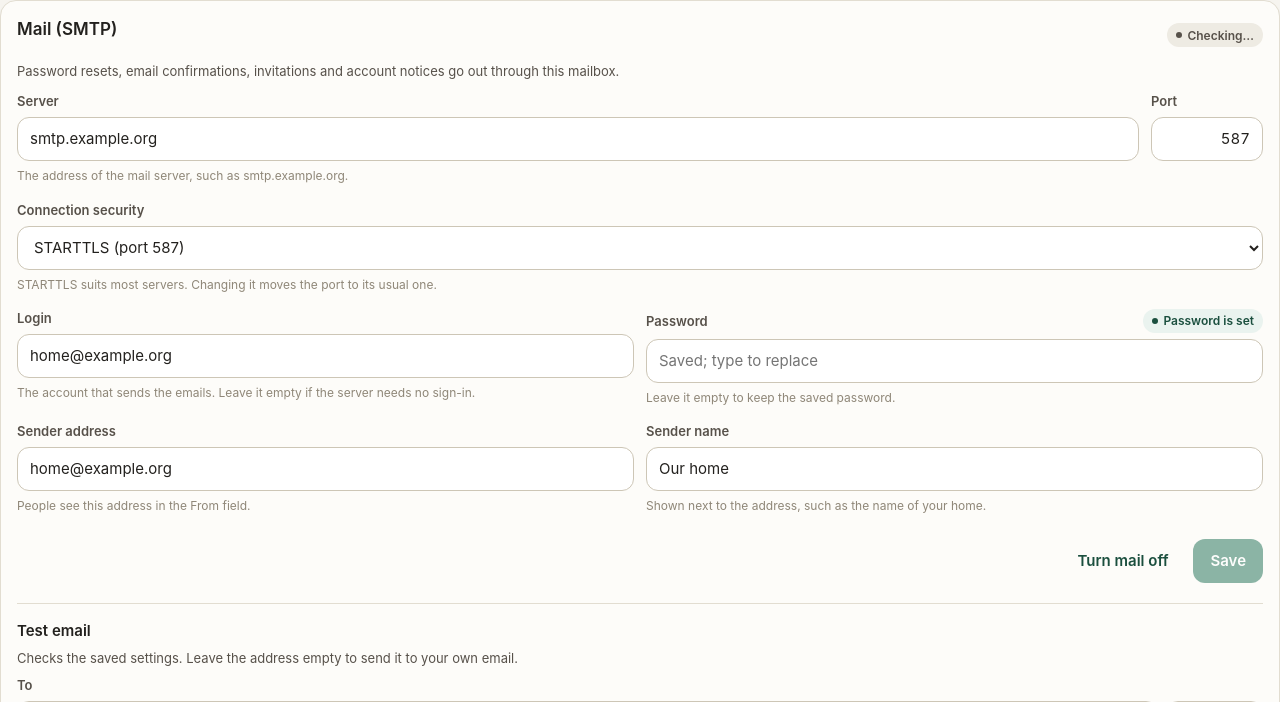
MailboxCard › says it saved and empties the password field
Type "a new app password" into the password field labelled "Password".
click(954, 361); type("a new app password")  # box [646,339,1263,383]
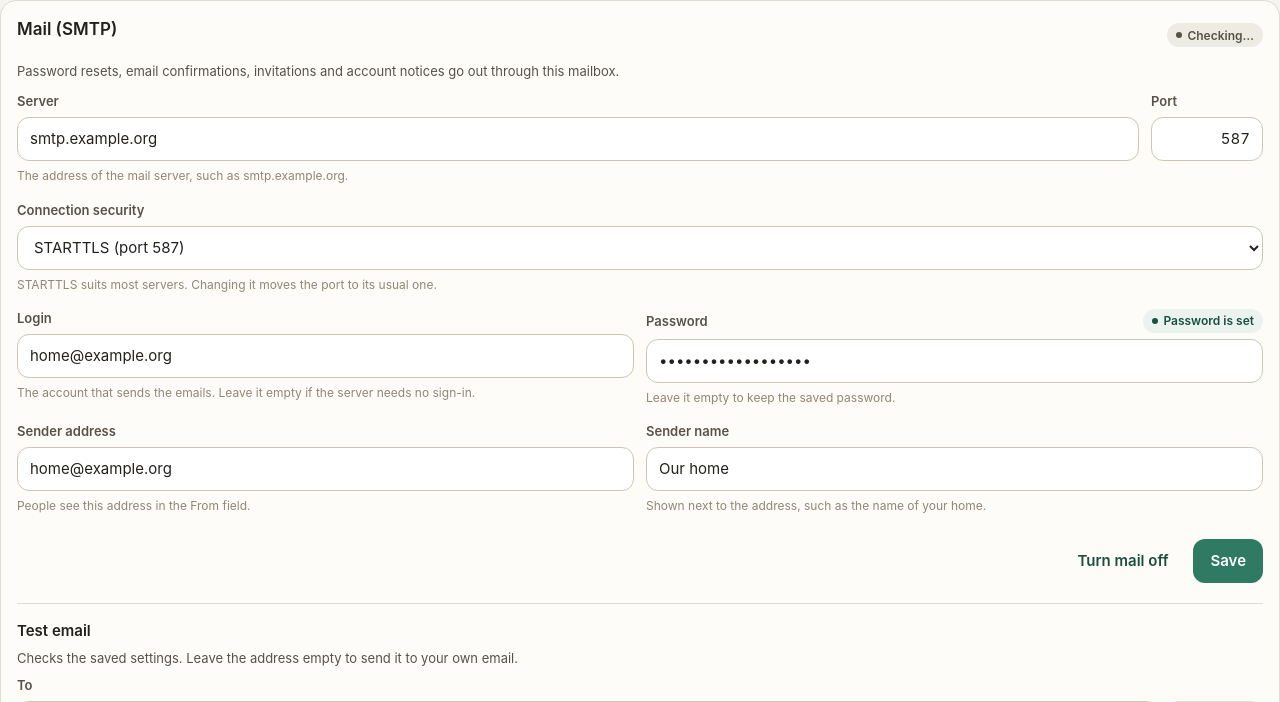
Click the button "Save".
click(1228, 561)  # box [1194,539,1263,583]
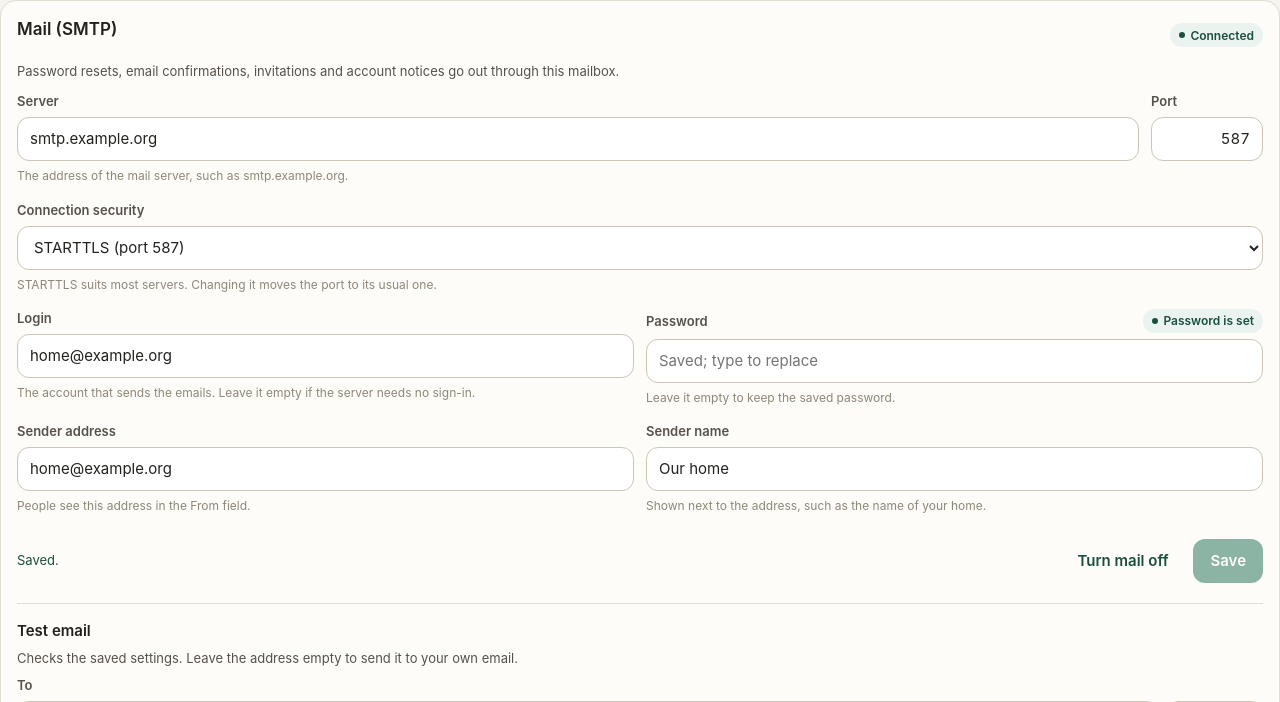
expect the message reads "Saved.": met, box [17,552,59,568]
expect the password field labelled "Password" is empty: met, box [646,339,1263,383]
